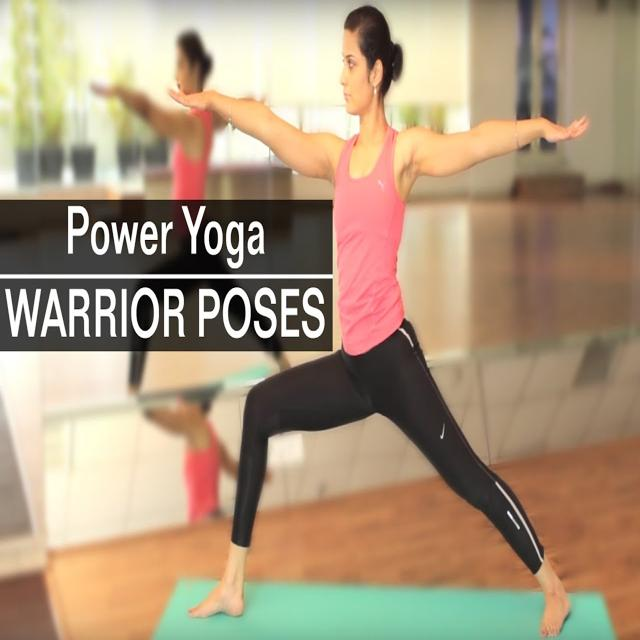Warrior_II: (175, 1, 596, 640)
